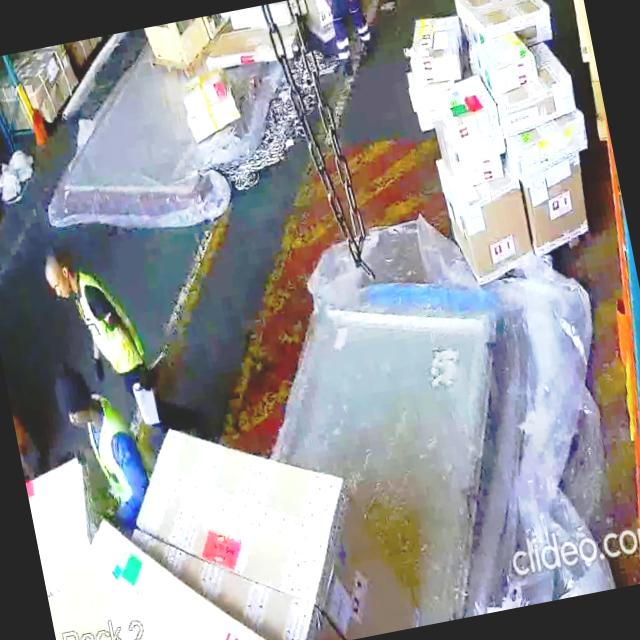Box: (442, 176, 536, 273), (520, 164, 594, 253), (176, 62, 246, 142), (435, 77, 503, 145), (455, 0, 551, 47), (402, 9, 462, 84), (507, 82, 583, 130), (514, 120, 590, 166), (478, 32, 531, 86)
